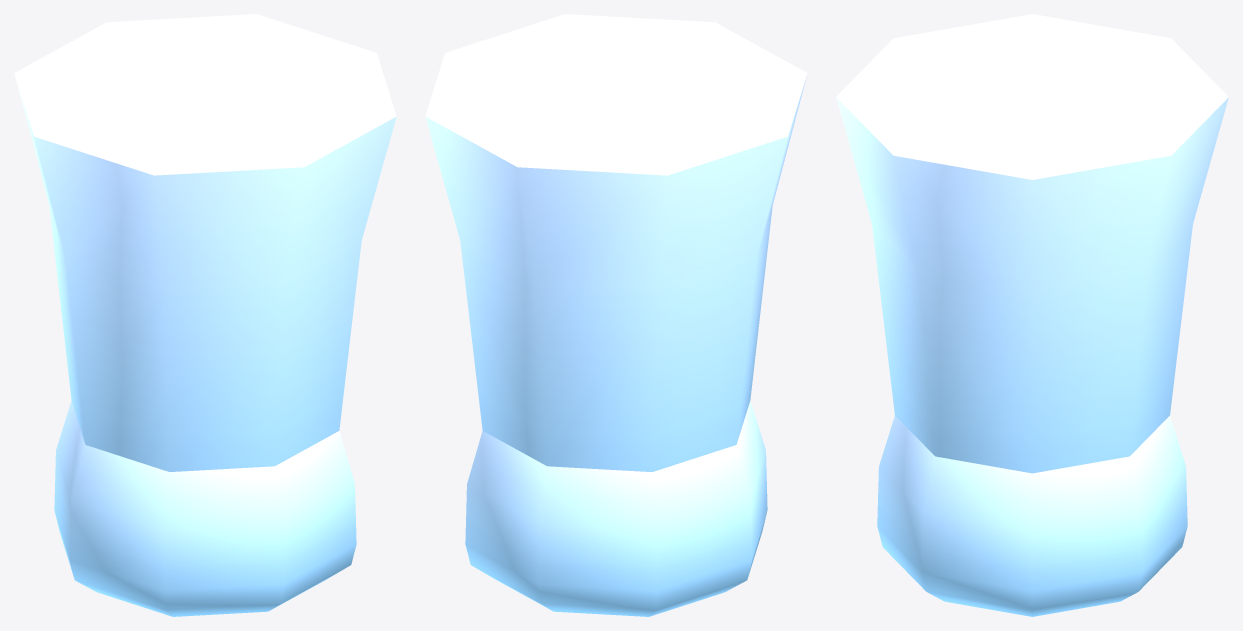
Rendered from steel_grip_045.glb.
3 views of the same model, side by side, from view 1: azimuth 30°, elevation 25°; view 2: azimuth 150°, elevation 25°; view 3: azimuth 270°, elevation 25° (orthographic).
Visible parts, largest first — view 1: steel_grip_045; view 2: steel_grip_045; view 3: steel_grip_045.
Part boxes in pixels (x1=…): steel_grip_045: x1=14, y1=14, x2=396, y2=616; steel_grip_045: x1=425, y1=14, x2=807, y2=616; steel_grip_045: x1=836, y1=14, x2=1228, y2=616.
Size of the model in its own units: 2.65 by 3.48 by 2.65.
1 material, 1 textured.
